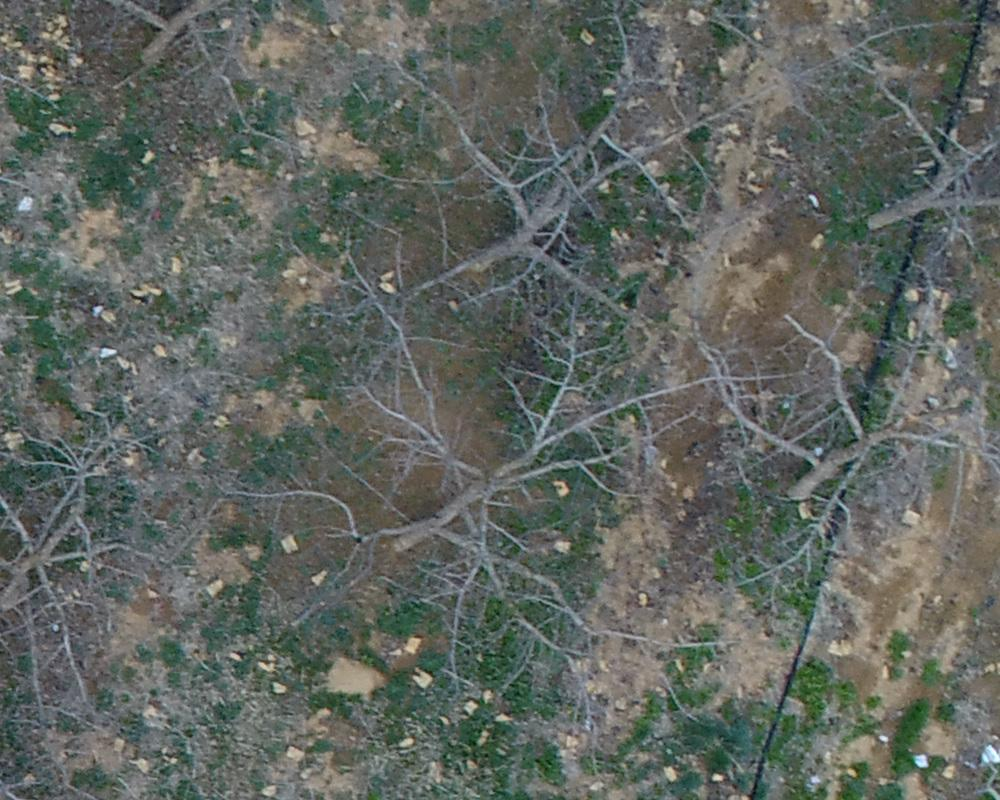apple: (263, 307, 735, 666), (376, 31, 799, 343), (687, 313, 990, 597), (10, 401, 188, 743), (825, 34, 990, 275)
